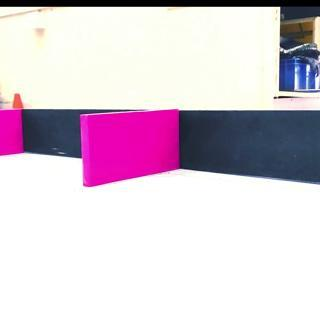xparking: (83, 114, 177, 184), (2, 111, 22, 152)
